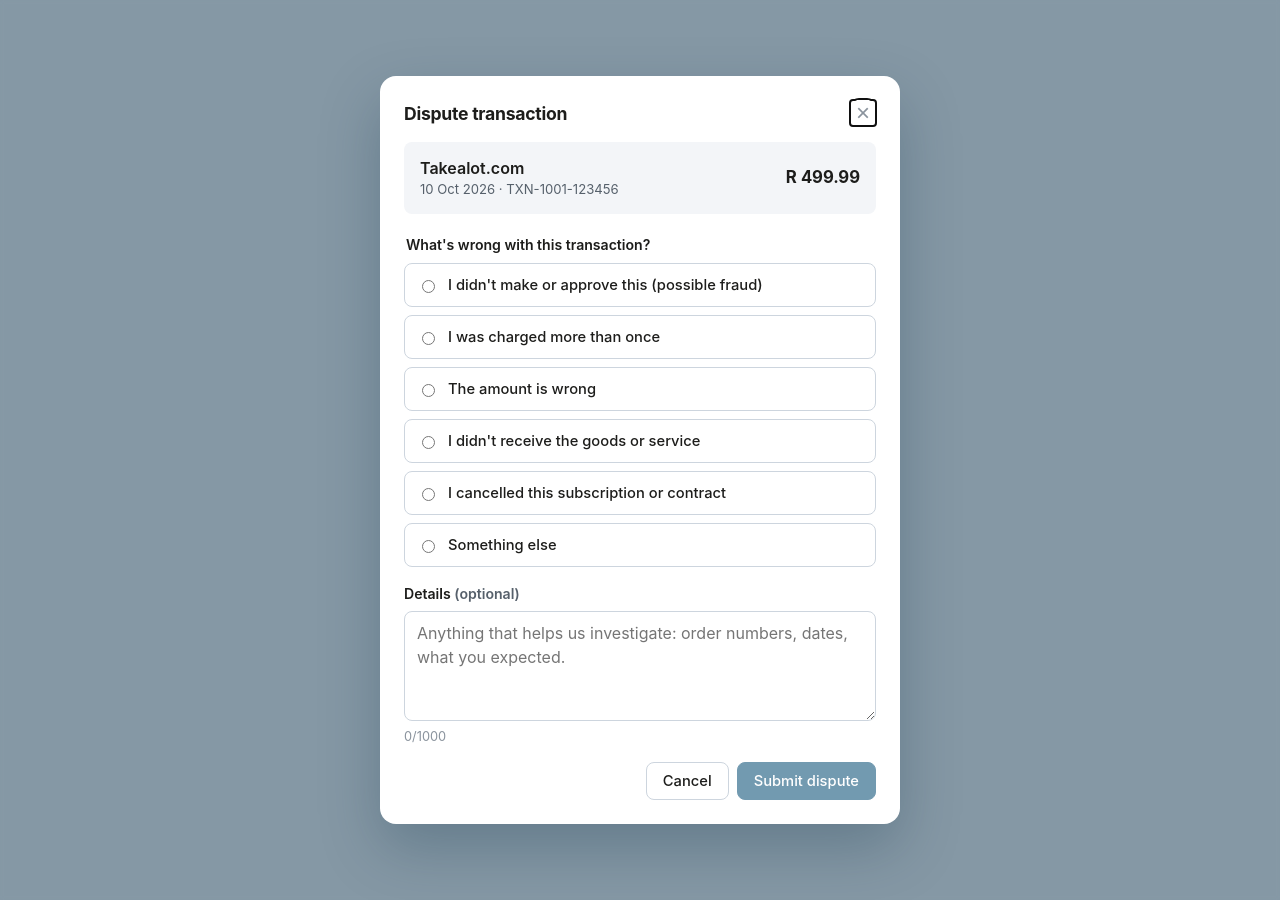
RaiseDisputeDialog › shows the API problem message when the server rejects the dispute
Click the radio button labelled "I was charged more than once" at {"x": 428, "y": 339}, box [422, 332, 435, 345]
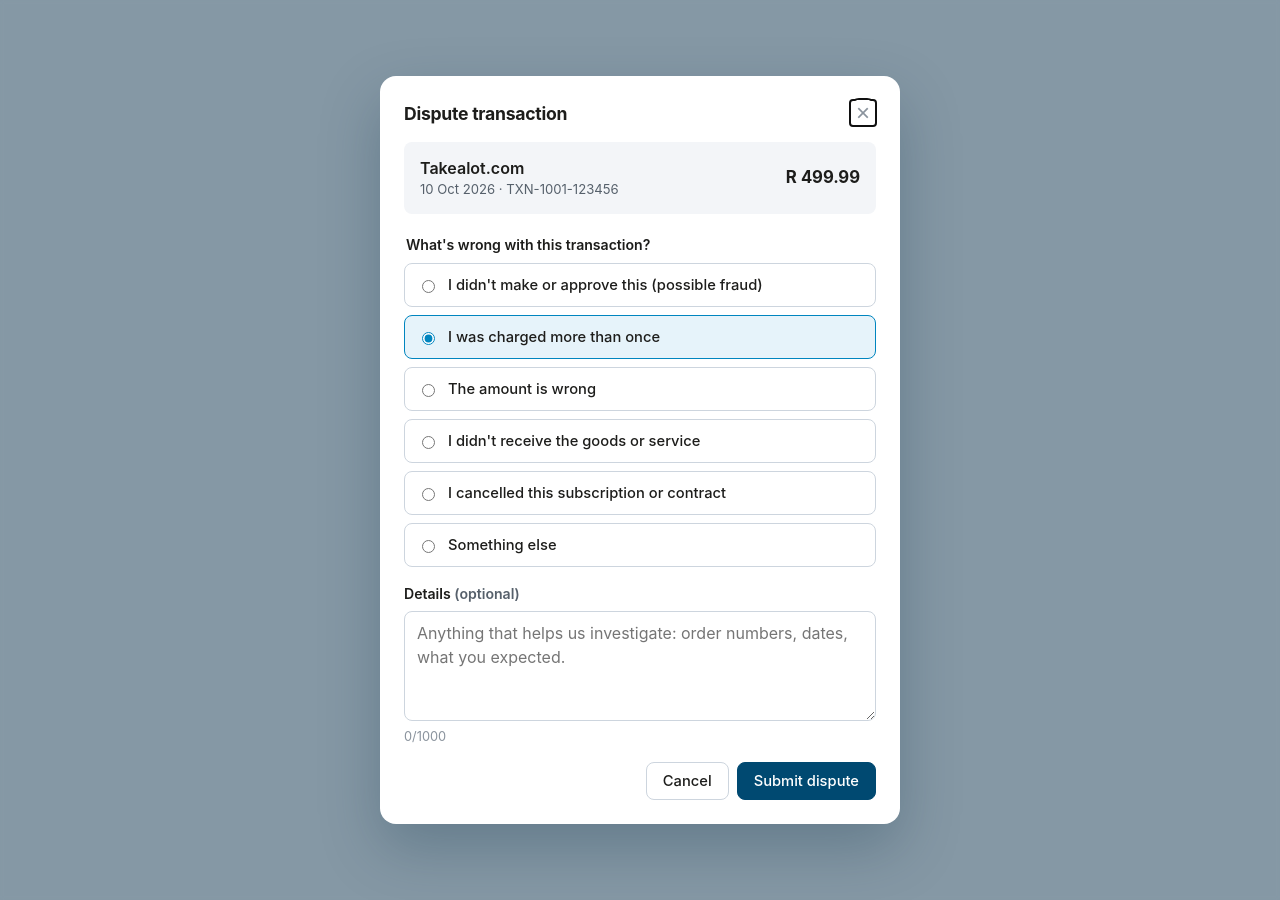
Submit the form, box [404, 234, 876, 800]
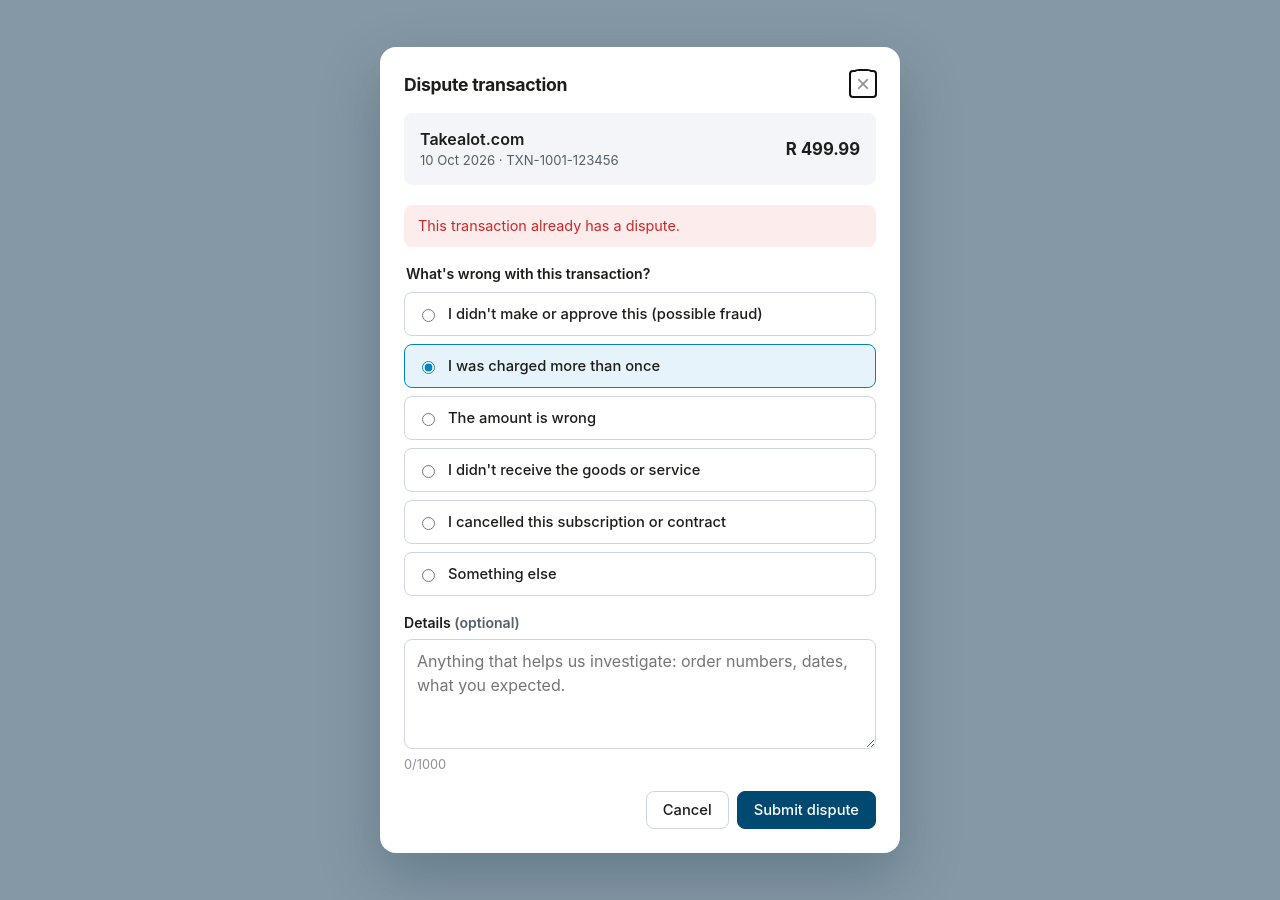
expect the message "This transaction already has a dispute." is shown: met, box [404, 205, 876, 247]
